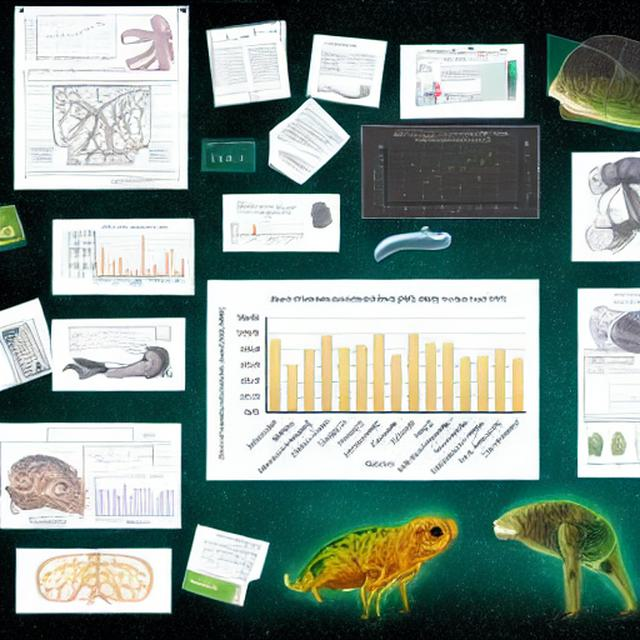Graph: (210, 292, 536, 478), (370, 129, 522, 218), (79, 224, 188, 289), (23, 13, 113, 66), (87, 474, 177, 524), (228, 203, 306, 249)
